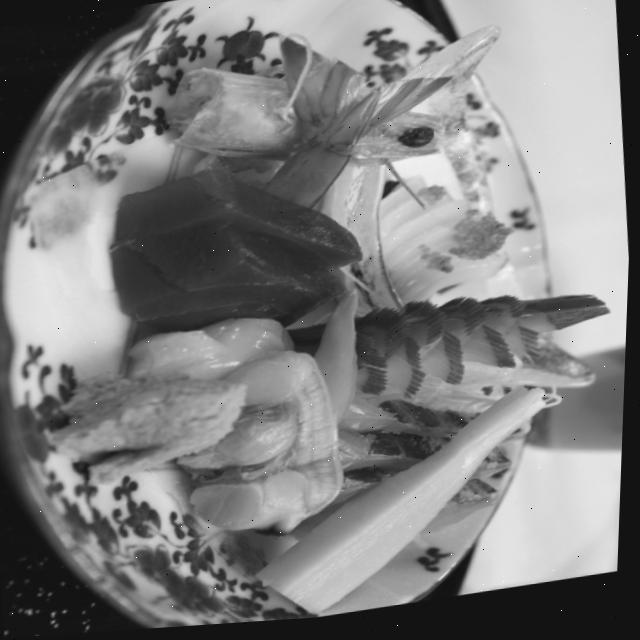刺身生食: (24, 0, 640, 638)
